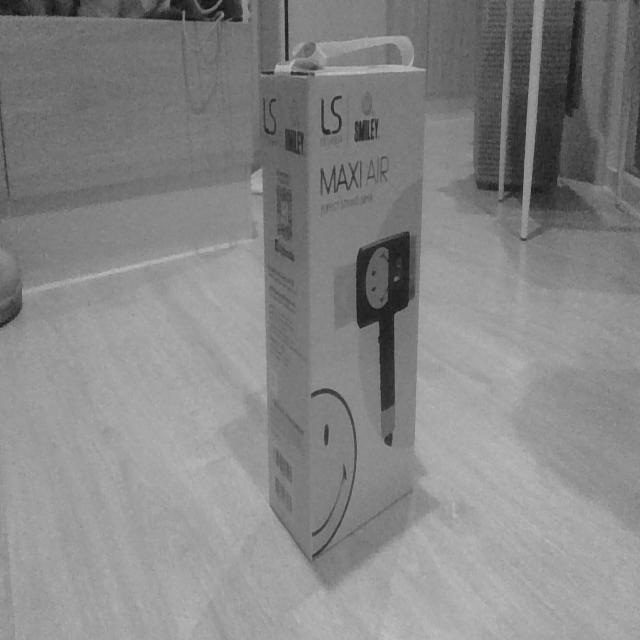Dryer: (256, 34, 428, 562)
